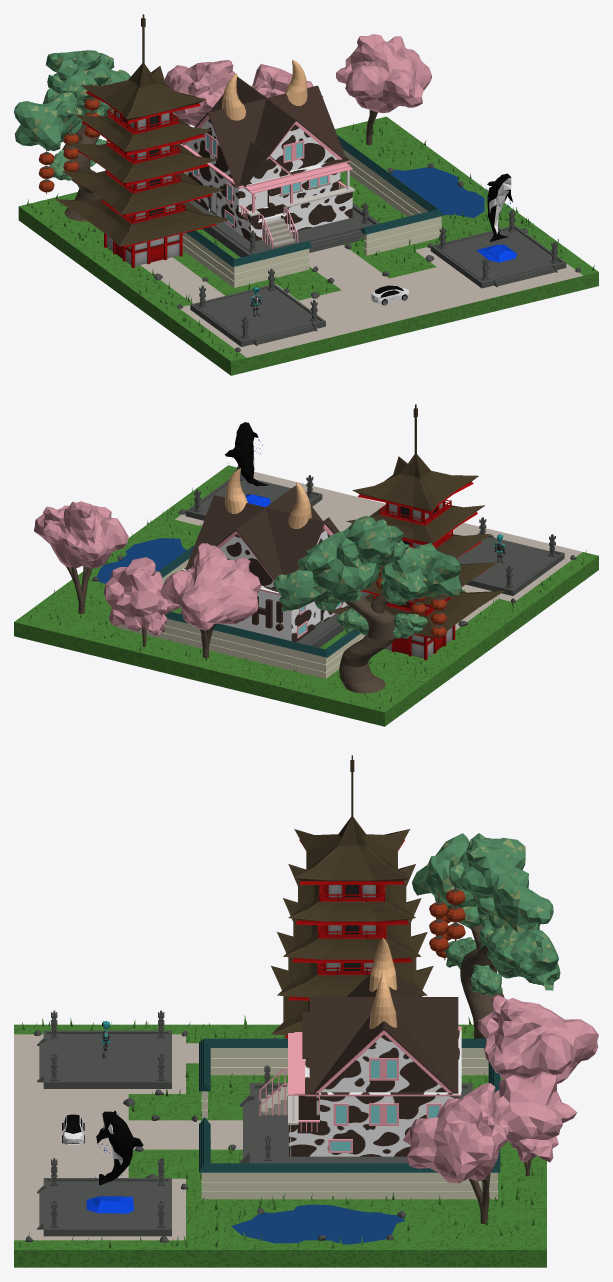
3 views of the same model, one above another, from view 1: azimuth 30°, elevation 25°; view 2: azimuth 150°, elevation 25°; view 3: azimuth 270°, elevation 25° (orthographic). The views are drawn at different scales.
Parts seen in each view (by area): view 1: Cube.005, Cube.1242, ANIMAL_ORCA, VEHICLES_TESLA; view 2: Cube.005, Cube.1242, ANIMAL_ORCA; view 3: Cube.005, Cube.1242, ANIMAL_ORCA.
Part boxes in pixels (bbox=[...]): Cube.005: bbox=[14, 14, 598, 375]; Cube.1242: bbox=[179, 59, 355, 248]; ANIMAL_ORCA: bbox=[476, 173, 516, 262]; VEHICLES_TESLA: bbox=[371, 285, 409, 305]; Cube.005: bbox=[14, 404, 598, 726]; Cube.1242: bbox=[181, 468, 347, 642]; ANIMAL_ORCA: bbox=[225, 422, 270, 507]; Cube.005: bbox=[14, 755, 598, 1267]; Cube.1242: bbox=[259, 938, 461, 1156]; ANIMAL_ORCA: bbox=[86, 1110, 143, 1213].
Size of the model in its own units: 4528 by 2706 by 4389.
Materials: 42 (5 with a texture image).
